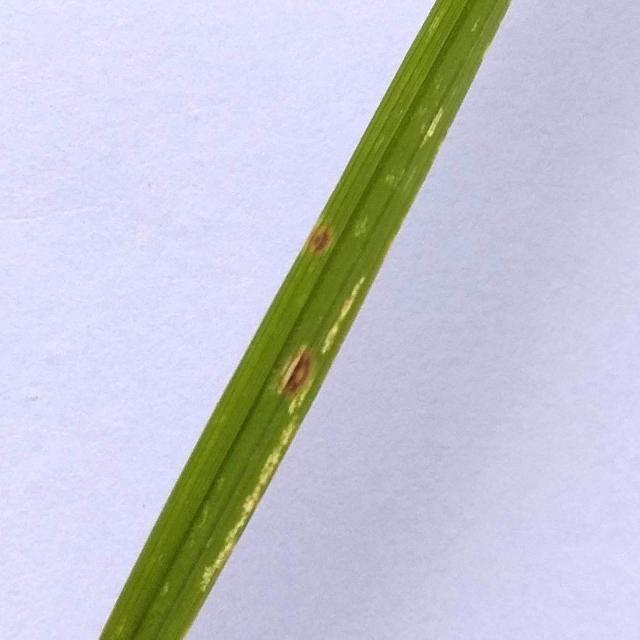Leaf blast: (4, 0, 508, 640)
